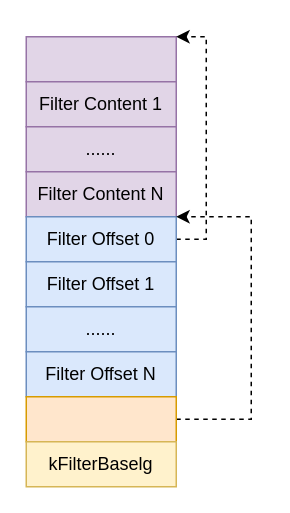
The diagram is 290 pixels wide and 513 high, and some of its shapes have lost their labels. Here are the shapes that lost their labels. From the top down, the centre of each, then its label:
[100,58]: Filter Content 0
[100,418]: array offset 4B
